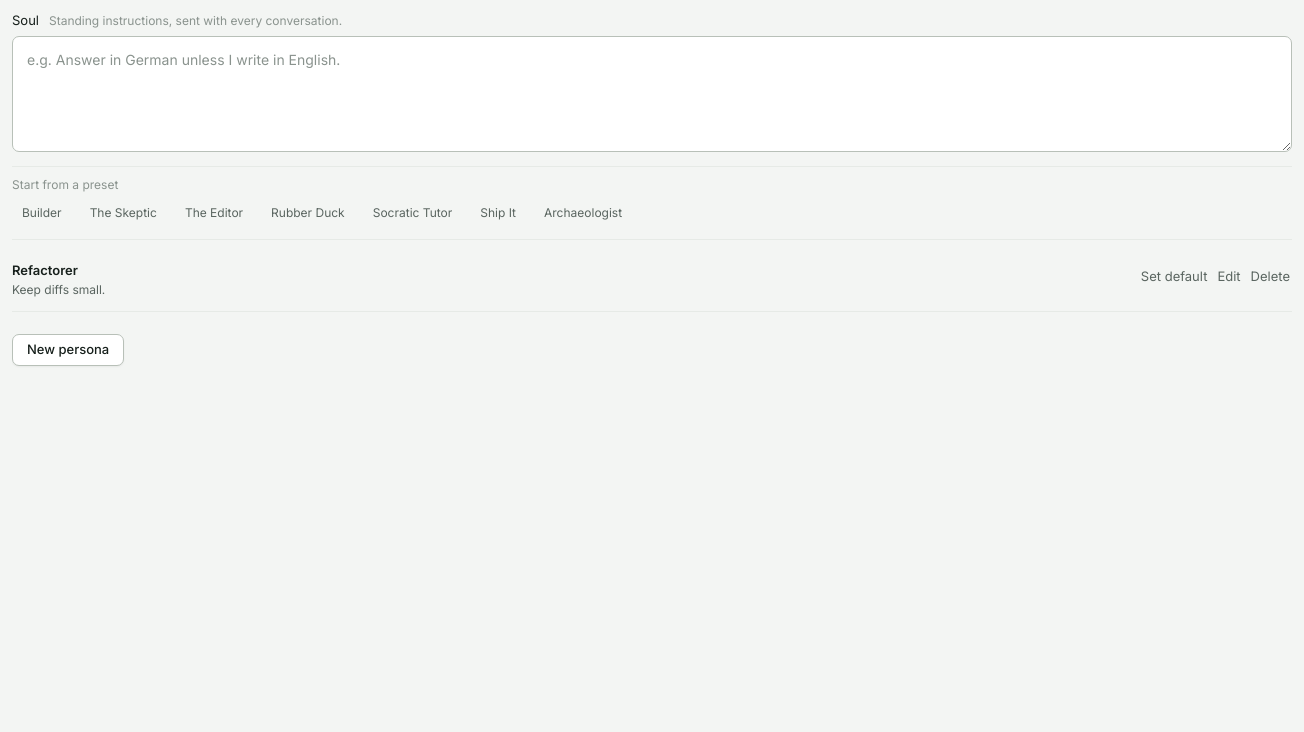
Test case: Runs on › choosing an agent app takes the model and tools away and says what it brings
Click the button "Edit". click: [1229, 276]
box: [1215,262,1243,290]
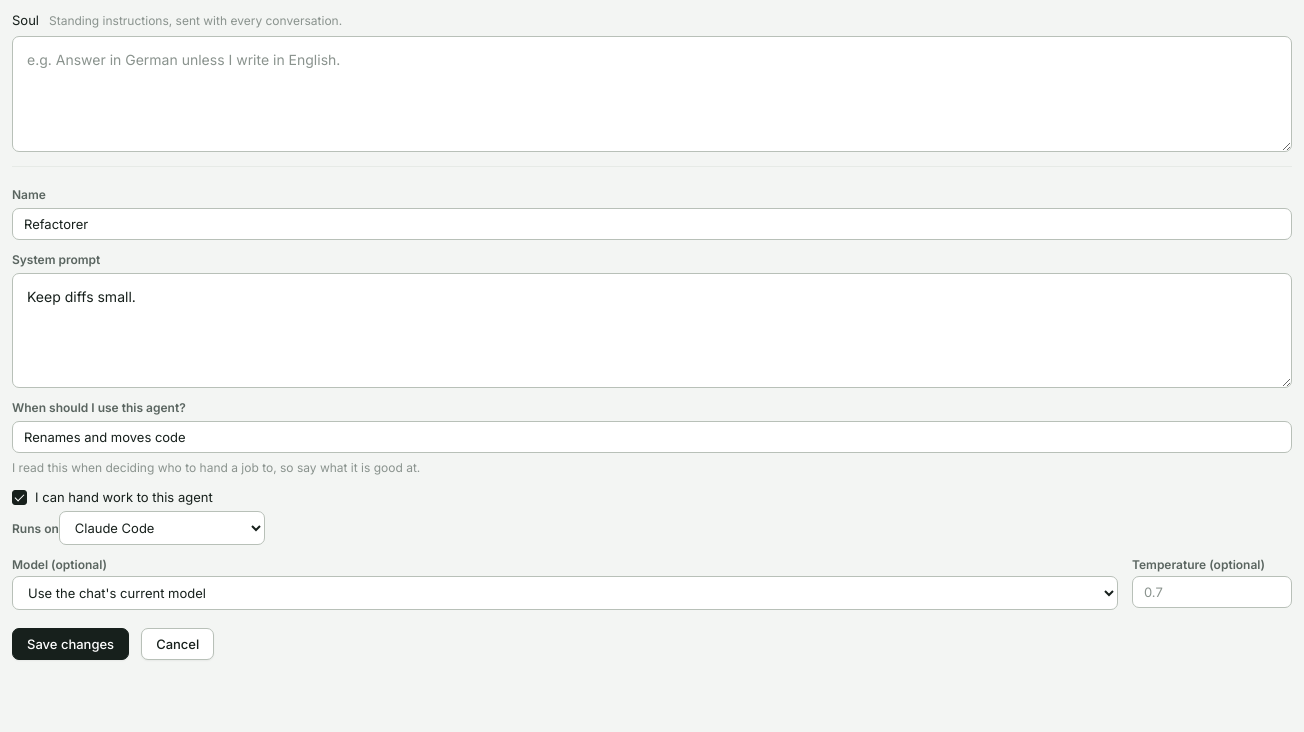
Expected: the label "Model (optional)" is shown, [12,557,107,572]
Select "Claude Code" in the dropdown labelled "Runs on". click: [162, 528]
box: [59,511,265,545]
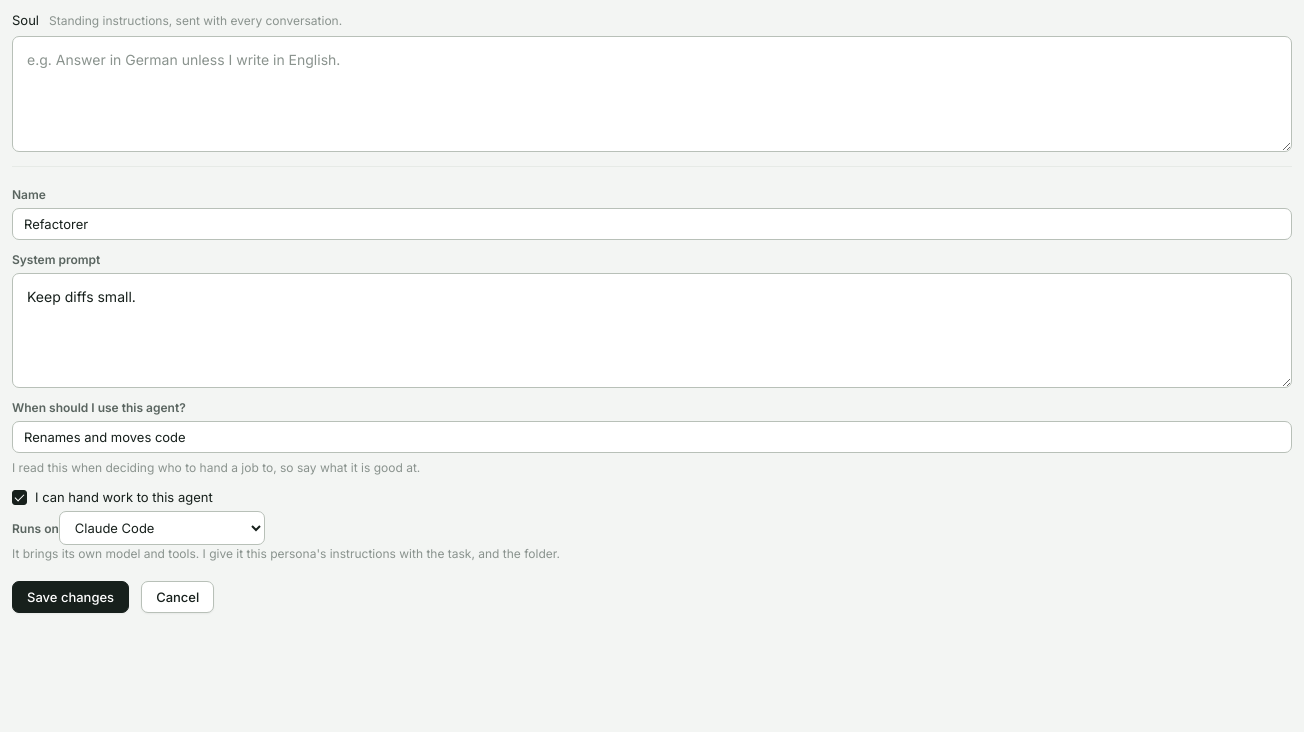
Expected: the label no longer shows "Model (optional)"
Expected: the text "It brings its own model and tools." is shown, [12,546,560,561]
Expected: the text "I give it this persona's instructions with the task, and the folder." is shown, [12,546,560,561]
